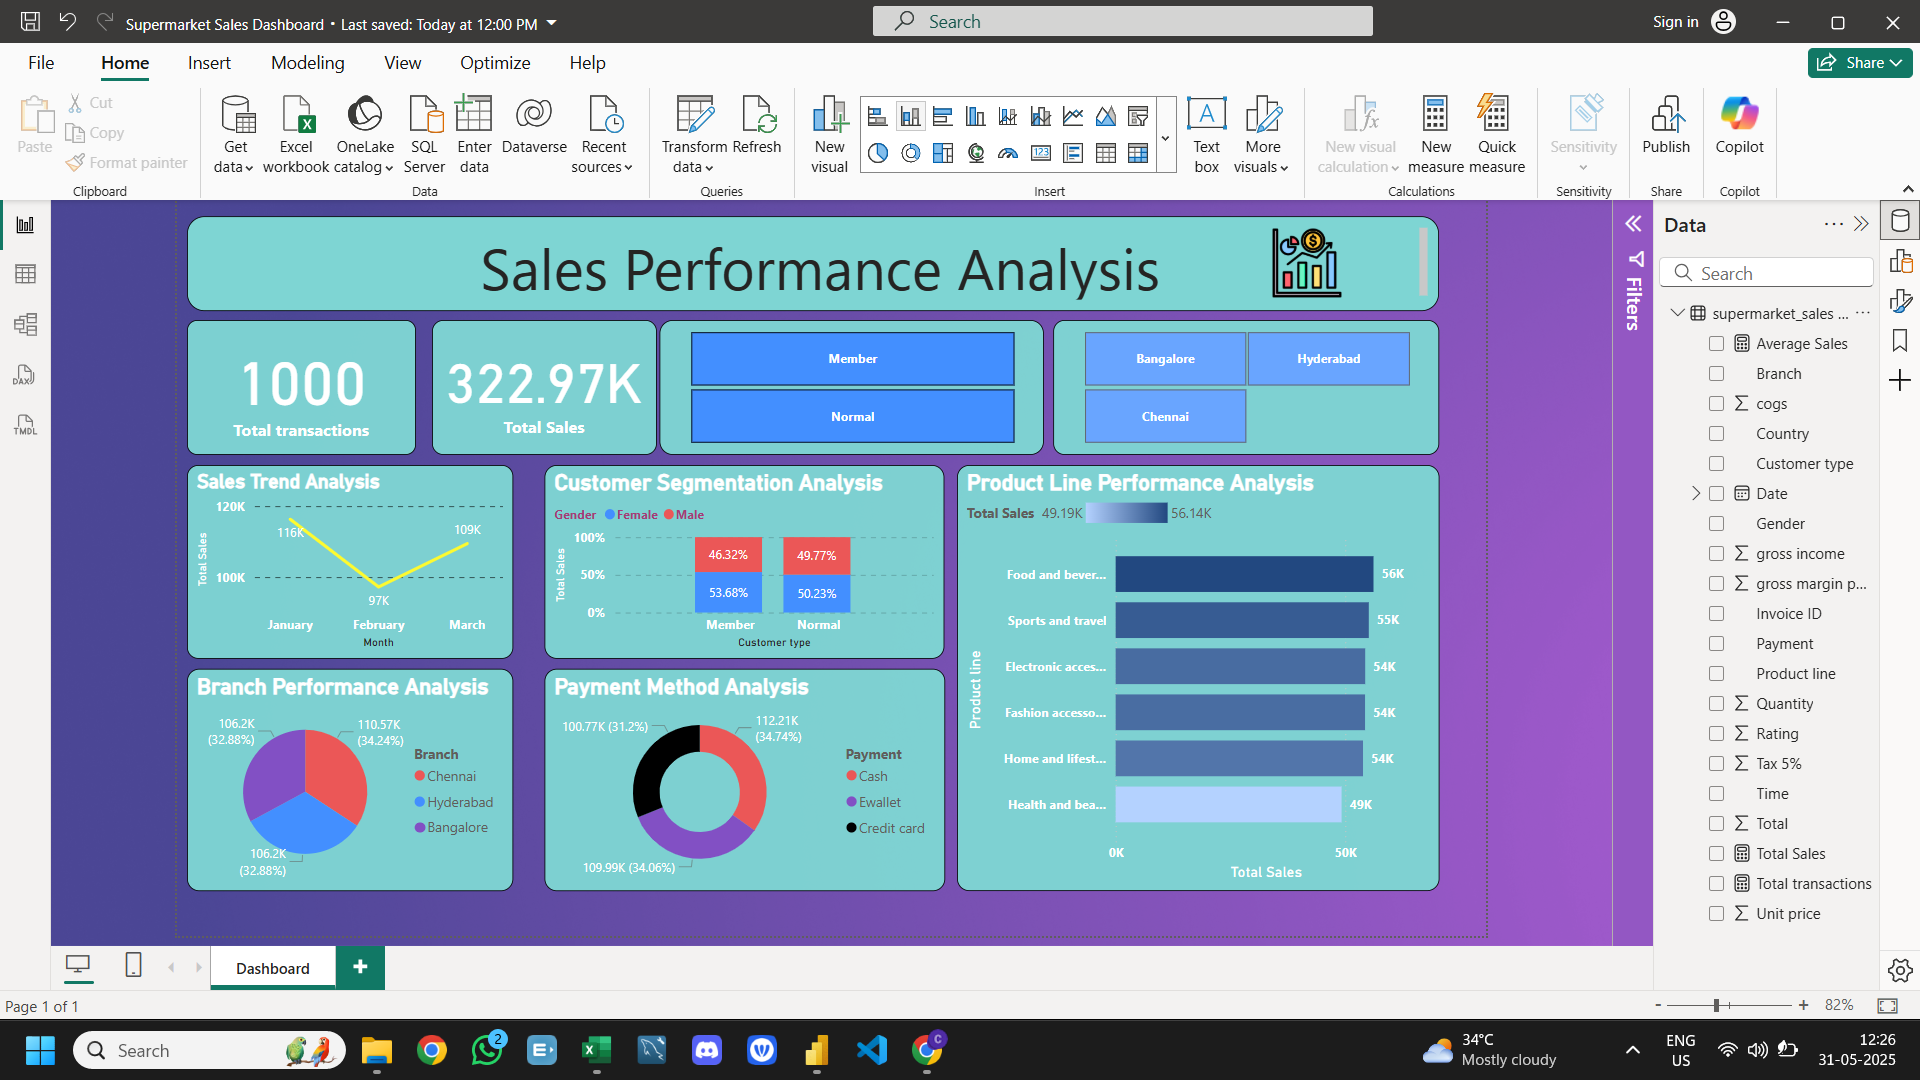

What the dashboard file says about the page in this screenshot:
{"tool":"powerbi","page":{"name":"Dashboard","canvas":[1280,720],"ordinal":0},"visuals":[{"type":"slicer","fields":{"Values":["supermarket_sales - Sheet1.Customer type"]},"box":[471.4,117.9,376.2,132.1],"z":0},{"type":"slicer","fields":{"Values":["supermarket_sales - Sheet1.Branch"]},"box":[857.1,117.9,377.4,132.1],"z":1000},{"type":"card","fields":{"Values":["supermarket_sales - Sheet1.Total Sales"]},"box":[249.5,117.4,220.1,132.1],"z":2000},{"type":"card","title":"🛒","fields":{"Values":["supermarket_sales - Sheet1.Total transactions"]},"box":[9.8,117.4,223.8,132.1],"z":3000},{"type":"lineChart","title":"Sales Trend Analysis","fields":{"Category":["supermarket_sales - Sheet1.Date.Variation.Date Hierarchy.Month"],"Y":["supermarket_sales - Sheet1.Total Sales"]},"box":[9.8,259.2,319.2,189.5],"z":4000},{"type":"pieChart","title":"Branch Performance Analysis","fields":{"Category":["supermarket_sales - Sheet1.Branch"],"Y":["supermarket_sales - Sheet1.Total Sales"]},"box":[9.8,458.6,319.2,217.7],"z":5000},{"type":"hundredPercentStackedColumnChart","title":"Customer Segmentation Analysis","fields":{"Category":["supermarket_sales - Sheet1.Customer type"],"Series":["supermarket_sales - Sheet1.Gender"],"Y":["supermarket_sales - Sheet1.Total Sales"]},"box":[359.5,259.2,391.3,189.5],"z":6000},{"type":"barChart","title":"Product Line Performance Analysis","fields":{"Category":["supermarket_sales - Sheet1.Product line"],"Y":["supermarket_sales - Sheet1.Total Sales"]},"box":[763,259.2,472,417],"z":7000},{"type":"donutChart","title":"Payment Method Analysis","fields":{"Category":["supermarket_sales - Sheet1.Payment"],"Y":["supermarket_sales - Sheet1.Total Sales"]},"box":[359.5,458.3,391.7,217.9],"z":8000},{"type":"textbox","box":[9.5,15.5,1225,92.9],"z":9000},{"type":"image","box":[977.4,22.6,257.1,79.8],"z":10000}]}

Visuals, with their boxes on the page's 1280x720 design canvas (x1, y1, x2, y2). These are canvas units, not pixel positions in the 1920x1080 screenshot, which may show the page scaled, cropped or inside an application window:
slicer - supermarket_sales - Sheet1.Customer type: detection(471, 118, 848, 250)
slicer - supermarket_sales - Sheet1.Branch: detection(857, 118, 1234, 250)
card - supermarket_sales - Sheet1.Total Sales: detection(250, 117, 470, 250)
"🛒" card: detection(10, 117, 234, 250)
"Sales Trend Analysis" lineChart: detection(10, 259, 329, 449)
"Branch Performance Analysis" pieChart: detection(10, 459, 329, 676)
"Customer Segmentation Analysis" hundredPercentStackedColumnChart: detection(360, 259, 751, 449)
"Product Line Performance Analysis" barChart: detection(763, 259, 1235, 676)
"Payment Method Analysis" donutChart: detection(360, 458, 751, 676)
textbox: detection(10, 16, 1234, 108)
image: detection(977, 23, 1234, 102)
